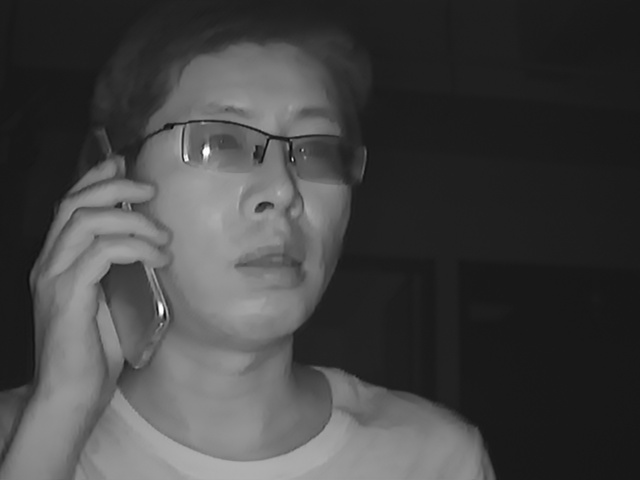hand: (28, 166, 171, 376)
